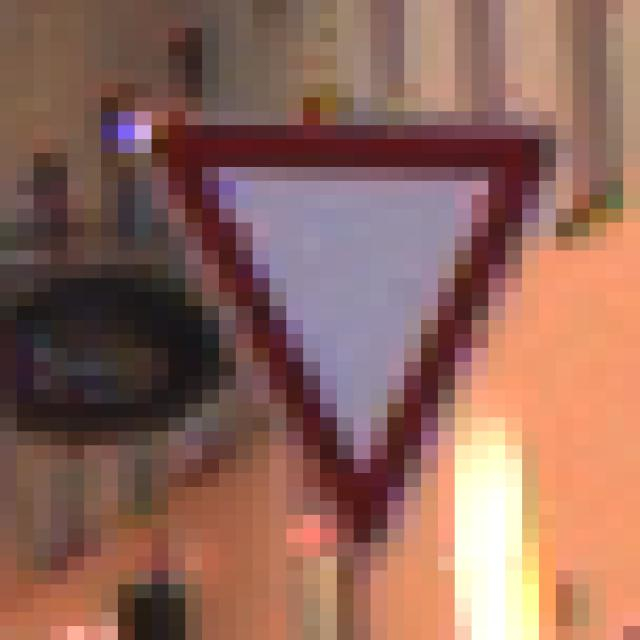Give Way: (102, 85, 557, 572)
